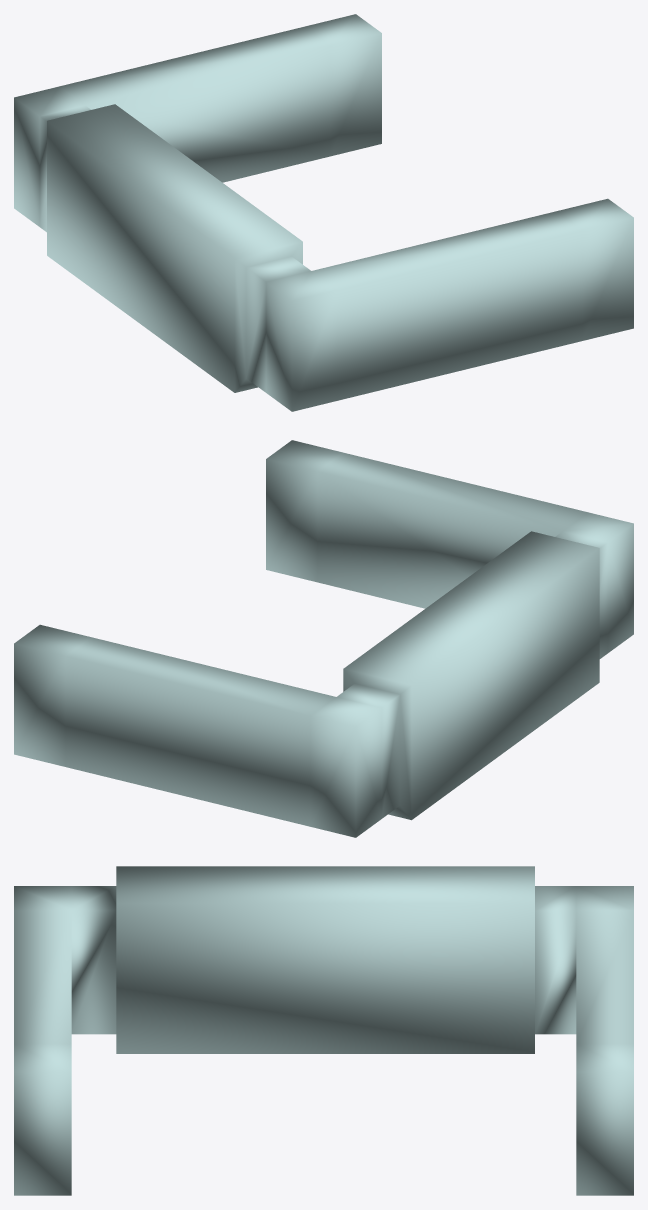
File: Lever.fbx
The picture shows the model from 3 angles, top to bottom: view 1: azimuth 30°, elevation 25°; view 2: azimuth 150°, elevation 25°; view 3: azimuth 270°, elevation 25°; orthographic projection. The views are drawn at different scales.
Visible parts, largest first — view 1: Lever:lever; view 2: Lever:lever; view 3: Lever:lever.
Boxes of the visible parts, x1=… form: Lever:lever: x1=14, y1=14, x2=633, y2=411; Lever:lever: x1=14, y1=440, x2=633, y2=837; Lever:lever: x1=14, y1=866, x2=633, y2=1195.
Bounding box in the file's own units: 3.86 × 1.41 × 5.26.
